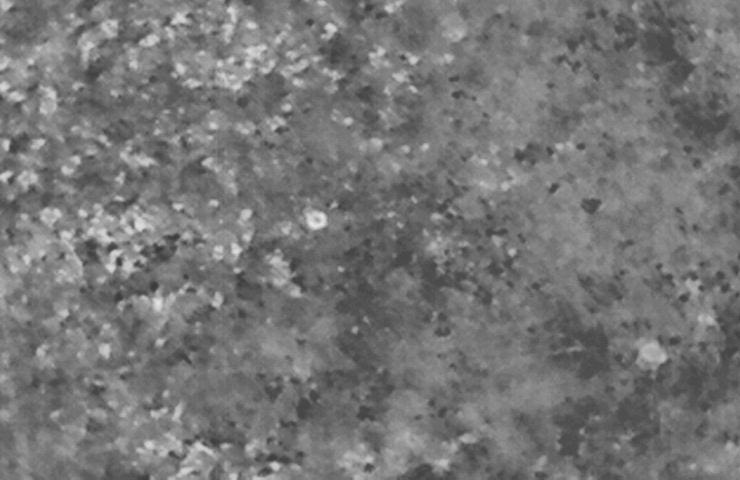landmines: (300, 204, 333, 236)
